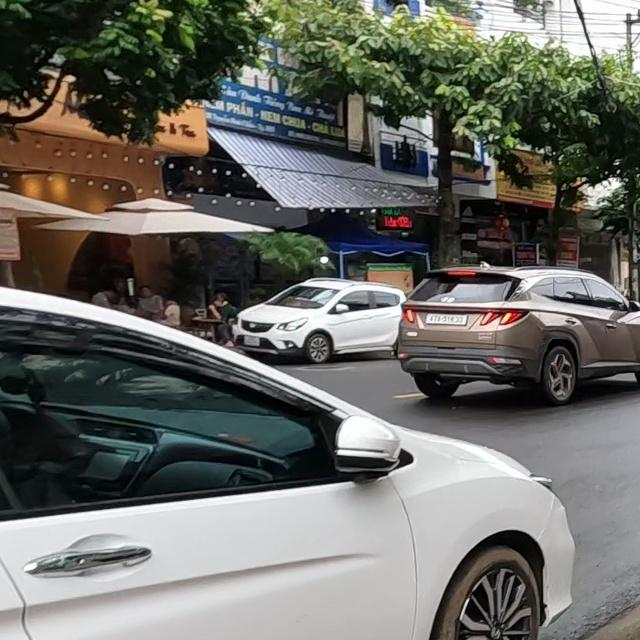license-plate: (425, 313, 465, 325)
